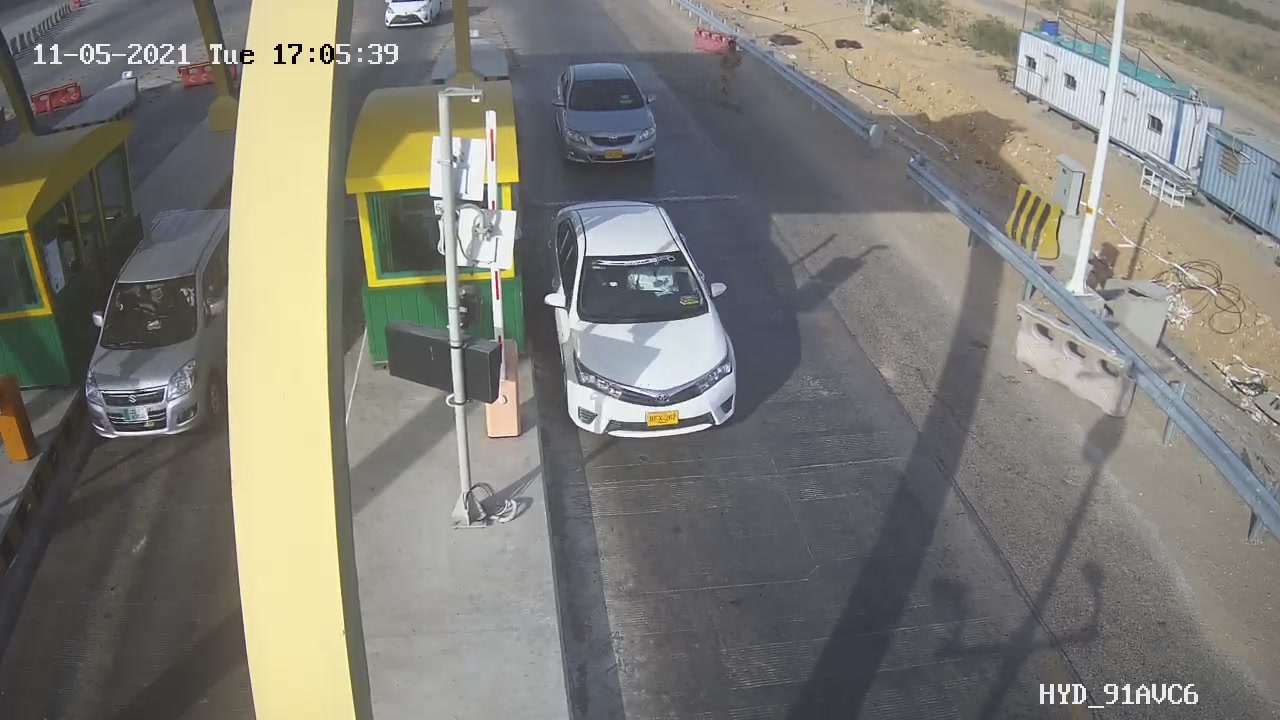F1: (522, 185, 769, 453), (534, 51, 685, 178)
